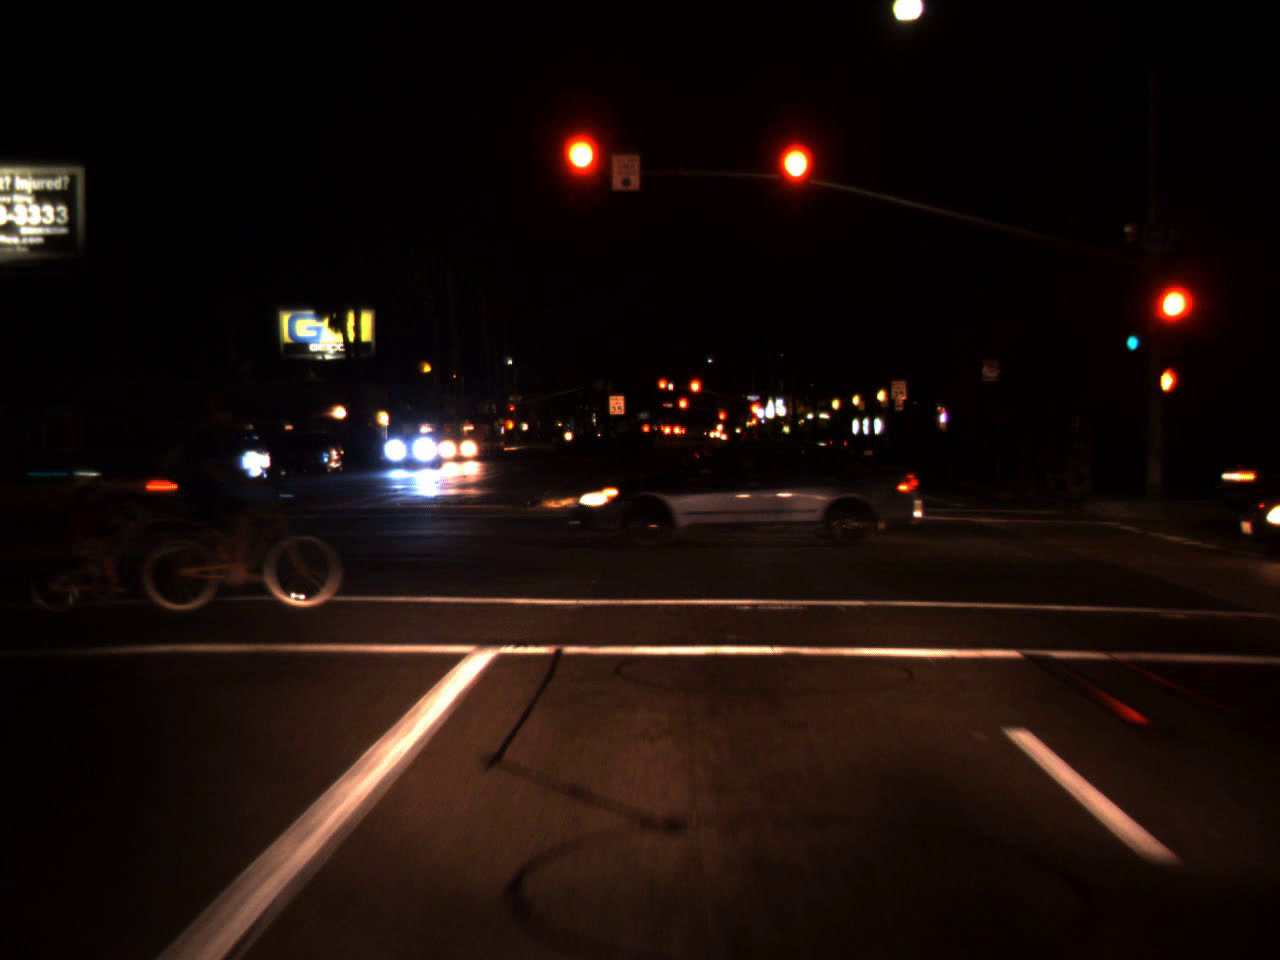stop: (1150, 285, 1192, 357), (778, 145, 814, 215), (564, 137, 598, 209), (687, 377, 703, 409), (656, 376, 668, 400), (677, 396, 689, 419), (747, 401, 762, 419), (504, 402, 516, 419), (717, 410, 727, 431)
